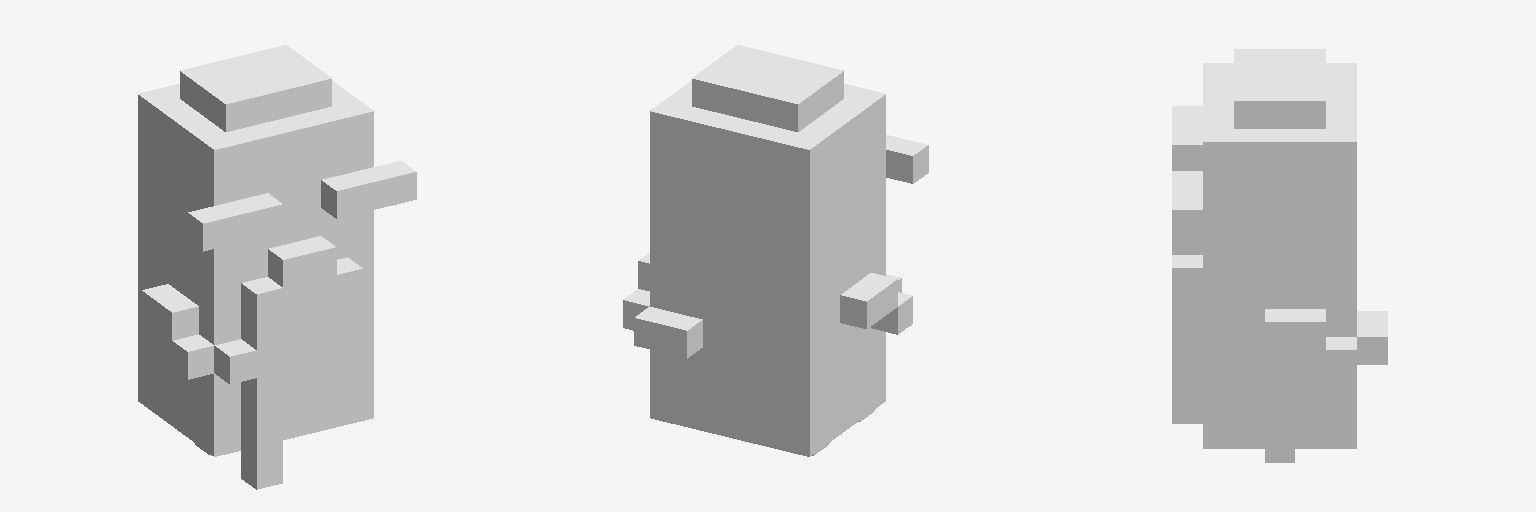
Rendered from theElder.obj.
The picture shows the model from 3 angles: view 1: azimuth 30°, elevation 25°; view 2: azimuth 150°, elevation 25°; view 3: azimuth 270°, elevation 25°; orthographic projection.
Parts seen in each view (by area): view 1: theElder; view 2: theElder; view 3: theElder.
Part boxes in pixels (left/top/right/bottom): theElder: left=138, top=45, right=416, bottom=489; theElder: left=623, top=45, right=928, bottom=456; theElder: left=1172, top=49, right=1387, bottom=462.
Bounding box in the file's own units: 8 × 13 × 7.